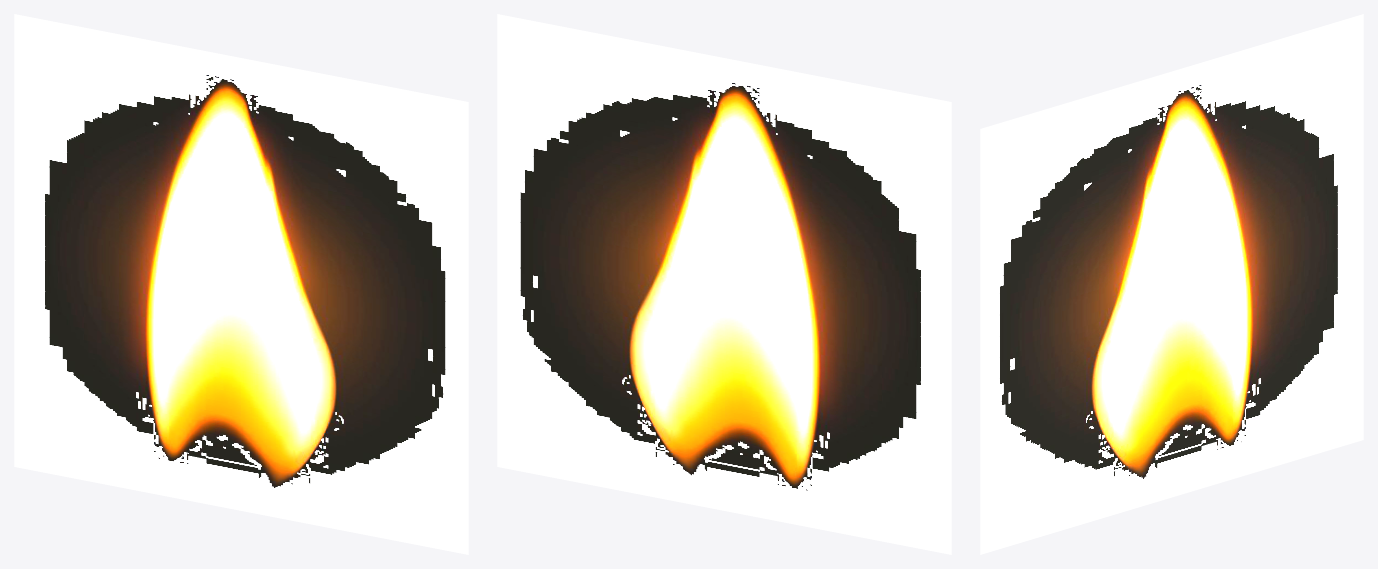
3 renders of one model, left to right at view 1: azimuth 30°, elevation 25°; view 2: azimuth 210°, elevation 25°; view 3: azimuth 270°, elevation 25°, orthographic. The views are drawn at different scales.
Parts seen in each view (by area): view 1: _242; view 2: _242; view 3: _242.
Boxes of the visible parts, x1,y1,x2,y2 form: _242: [14, 14, 468, 554]; _242: [497, 14, 951, 554]; _242: [980, 14, 1363, 554].
Size of the model in its own units: 4.11 by 7.1 by 5.79.
